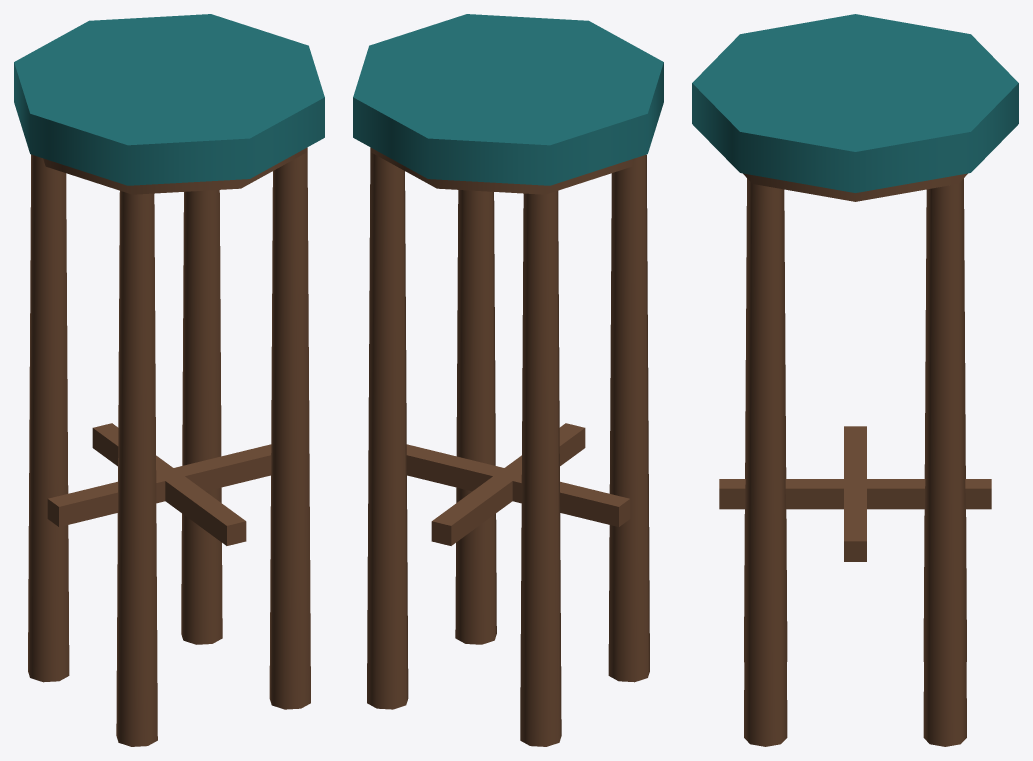
Rendered from bar-stool-lod1.glb.
3 renders of one model, left to right at view 1: azimuth 30°, elevation 25°; view 2: azimuth 150°, elevation 25°; view 3: azimuth 270°, elevation 25°, orthographic.
Parts seen in each view (by area): view 1: seat-pad, leg-3, leg-0, leg-2, leg-1, footrest-0, footrest-1, seat-plate; view 2: seat-pad, leg-2, leg-1, leg-3, leg-0, footrest-0, footrest-1, seat-plate; view 3: seat-pad, leg-1, leg-0, footrest-1, footrest-0, seat-plate, leg-2, leg-3.
Part boxes in pixels (x1,y1,x2,y2): seat-pad: [14, 14, 324, 185]; leg-3: [116, 191, 157, 746]; leg-0: [269, 152, 310, 709]; leg-2: [28, 154, 69, 682]; leg-1: [181, 190, 222, 644]; footrest-0: [47, 444, 271, 526]; footrest-1: [92, 423, 246, 545]; seat-plate: [43, 147, 307, 194]; seat-pad: [353, 14, 663, 185]; leg-2: [520, 191, 561, 746]; leg-1: [367, 152, 408, 709]; leg-3: [608, 154, 649, 682]; leg-0: [455, 190, 496, 644]; footrest-0: [406, 444, 630, 526]; footrest-1: [431, 423, 585, 545]; seat-plate: [370, 147, 634, 194]; seat-pad: [692, 14, 1018, 192]; leg-1: [923, 179, 966, 746]; leg-0: [744, 179, 787, 746]; footrest-1: [719, 479, 991, 509]; footrest-0: [844, 426, 866, 561]; seat-plate: [743, 173, 967, 201]; leg-2: [923, 178, 966, 661]; leg-3: [744, 178, 787, 661].
Bounding box in the file's own units: 0.36 × 0.75 × 0.36.
